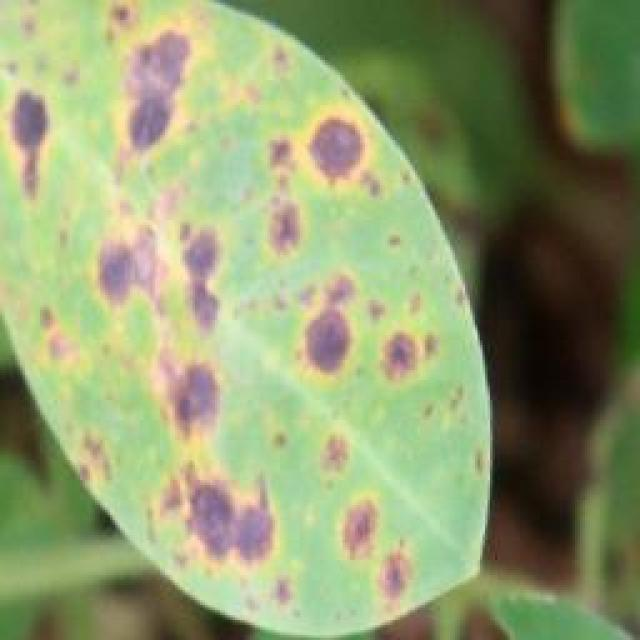Yellowish: (0, 0, 502, 640)
